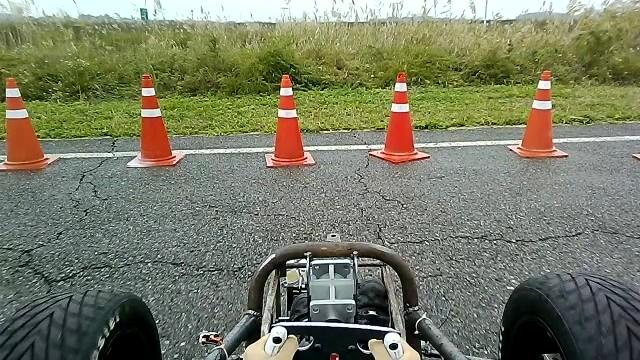red cone: (367, 70, 430, 163), (125, 73, 185, 167), (506, 69, 568, 158), (0, 76, 57, 171), (264, 74, 315, 167)
